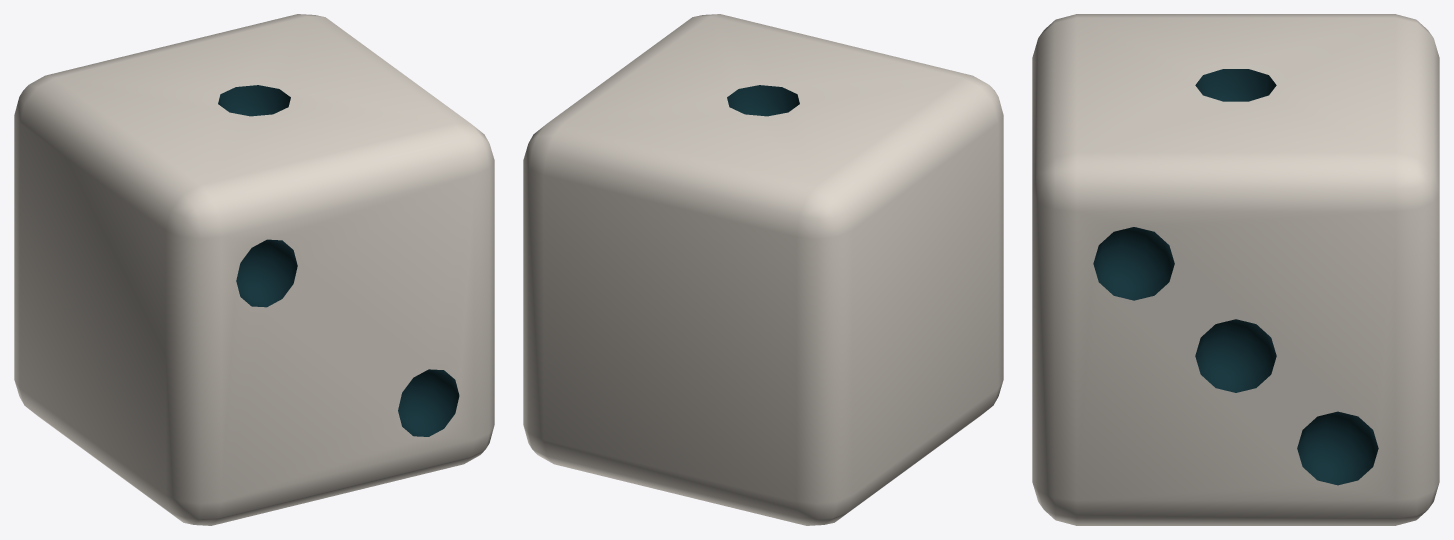
File: prop_die.glb
The picture shows the model from 3 angles, left to right: view 1: azimuth 30°, elevation 25°; view 2: azimuth 150°, elevation 25°; view 3: azimuth 270°, elevation 25°; orthographic projection. The views are drawn at different scales.
Parts seen in each view (by area): view 1: prop_die; view 2: prop_die; view 3: prop_die.
Boxes of the visible parts, x1,y1,x2,y2 form: prop_die: (14, 14, 494, 525); prop_die: (523, 14, 1003, 525); prop_die: (1032, 14, 1439, 525).
Size of the model in its own units: 3.2 by 3.2 by 3.2.
